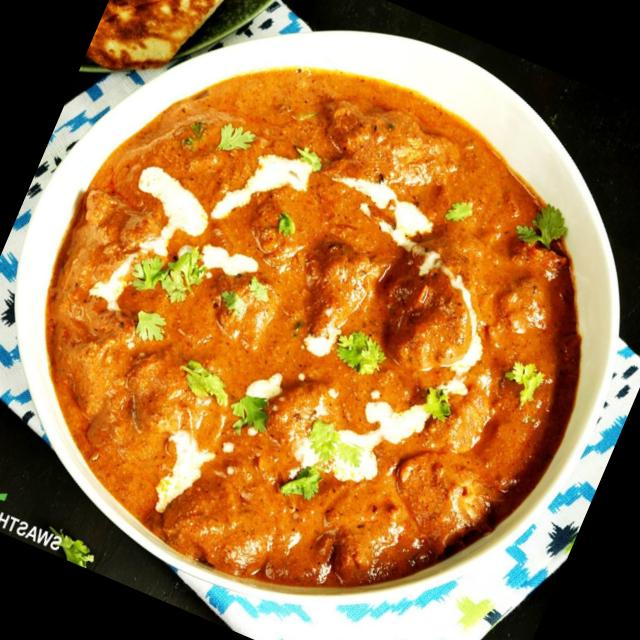chicken: (0, 25, 627, 640)
roti: (89, 0, 256, 92)
